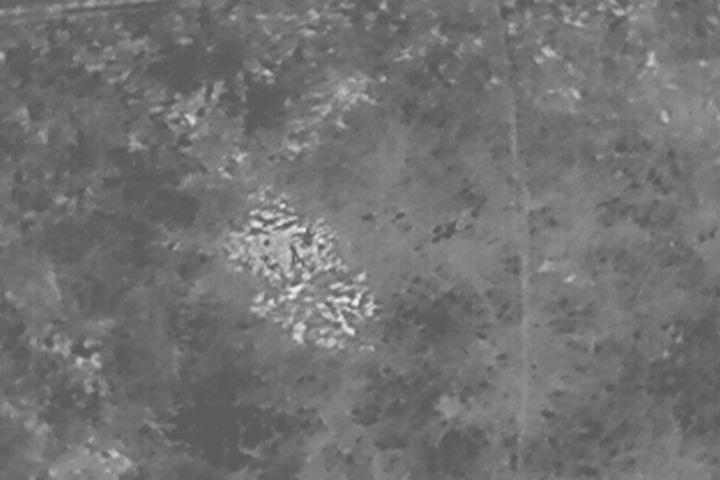landmine: (228, 206, 320, 280)
